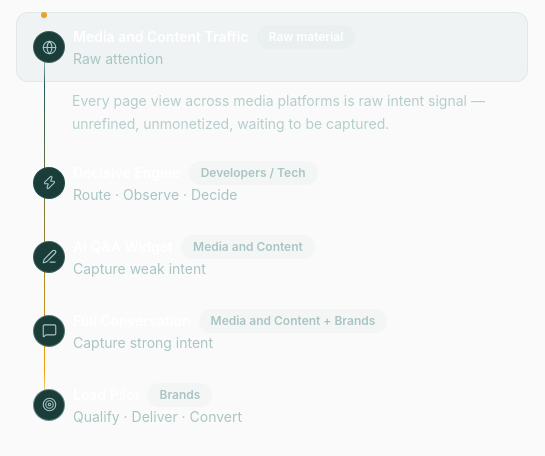
rows are buttons that expose and control their description
Click the button "AI Q&A Widget Media and Content Capture weak intent" at (272, 256), box 16,222 -> 528,292
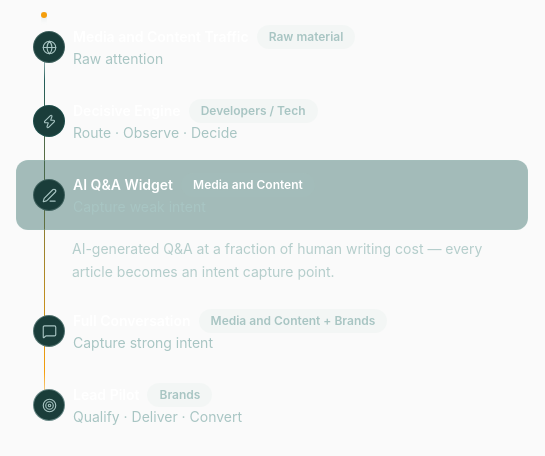
Result: the button "AI Q&A Widget Media and Content Capture weak intent" is expanded at 16,160 -> 528,230
Result: the button "Media and Content Traffic Raw material Raw attention" is collapsed at 16,12 -> 528,82
